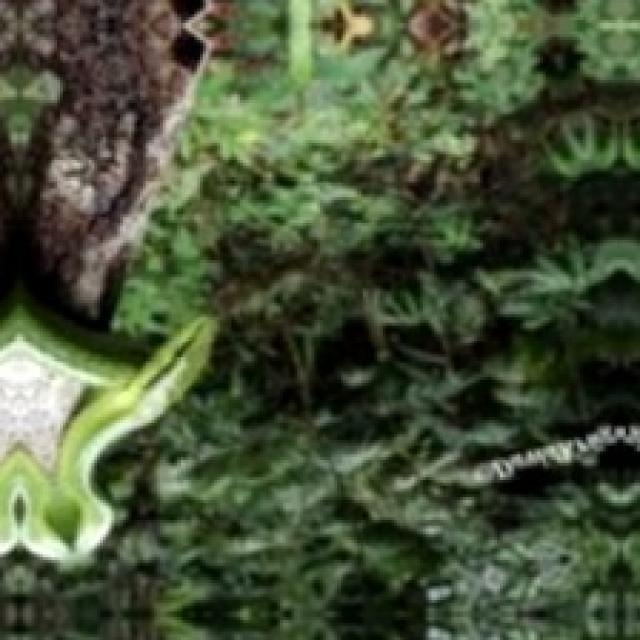red-tailed green ratsnake: (0, 300, 214, 563)
